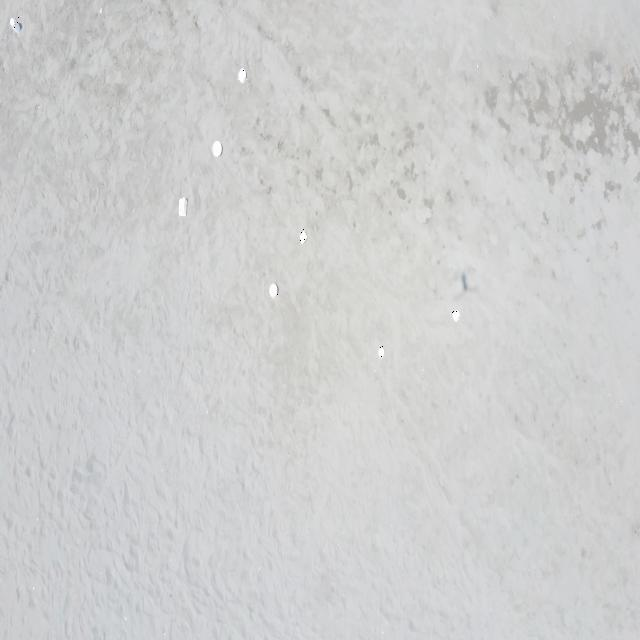take-away-containers: (178, 196, 187, 217), (212, 140, 222, 157), (238, 67, 247, 83), (269, 283, 278, 298), (451, 309, 461, 322), (300, 229, 308, 245), (378, 346, 384, 358)
takeaway-cup: (9, 17, 20, 32)
